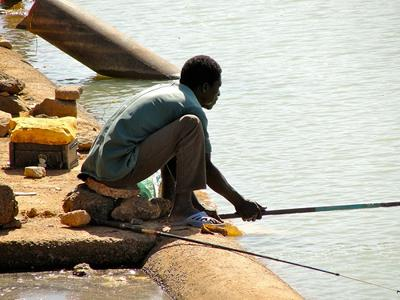person: (80, 55, 267, 225)
